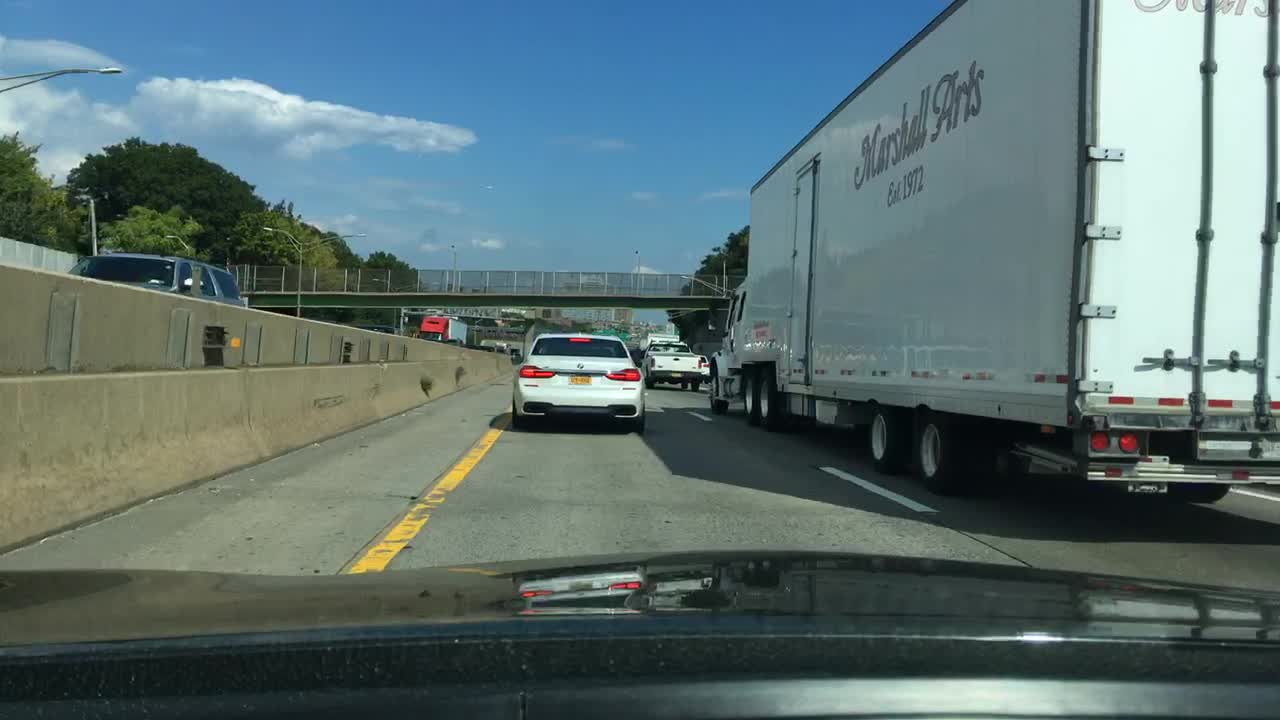car: (509, 330, 647, 429), (66, 253, 247, 307)
truck: (703, 2, 1279, 503), (640, 336, 711, 394), (420, 313, 470, 346)
